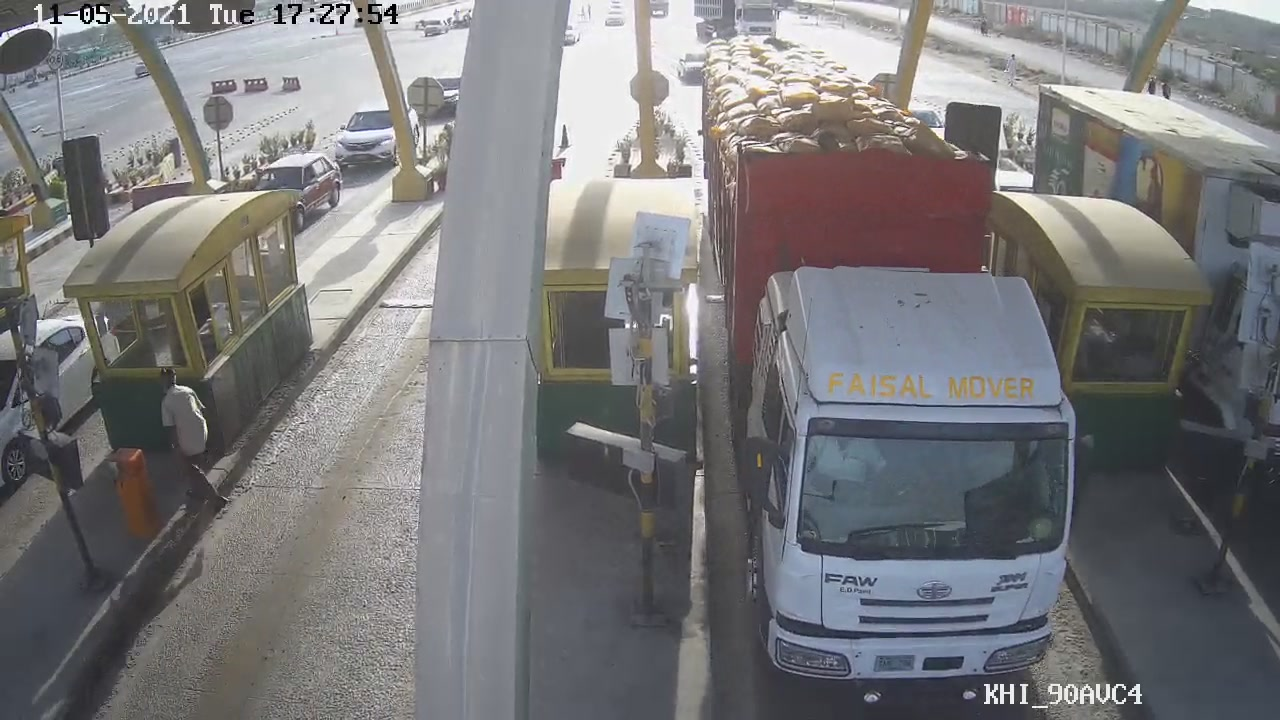F6: (716, 28, 1101, 696)
